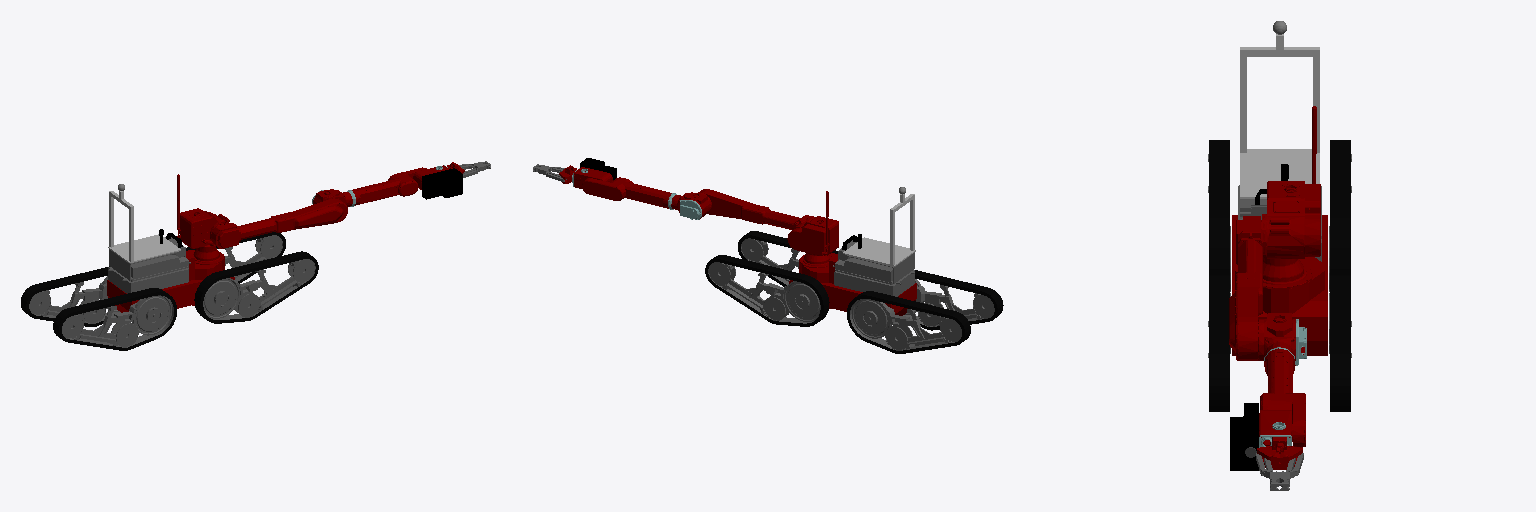
--- Facts derived from the render (not from the file) ---
The picture shows the robot from 3 angles, left to right: view 1: azimuth 30°, elevation 25°; view 2: azimuth 150°, elevation 25°; view 3: azimuth 270°, elevation 25°; orthographic projection.
Model drz_telemax with 41 links and 40 joints (14 revolute, 2 continuous, 24 fixed), rooted at base_link, posed all joints at 0.
Visible links, largest first — view 1: flipper_front_right_link, flipper_back_right_link, arm_link_1, flipper_back_left_link, chassis_link, arm_link_0, navigation_module_link, autonomy_box_link, arm_link_3, flipper_front_left_link, arm_sensor_box_link; view 2: flipper_front_left_link, flipper_back_left_link, flipper_back_right_link, chassis_link, arm_link_0, navigation_module_link, arm_link_1, autonomy_box_link, arm_link_3, flipper_front_right_link, arm_link_2; view 3: arm_link_0, navigation_module_link, arm_link_1, chassis_link, flipper_front_left_link, flipper_back_left_link, flipper_back_right_link, flipper_front_right_link, arm_link_3, arm_link_2, arm_sensor_box_link, arm_link_4 (+2 smaller).
Boxes of the visible links, x1,y1,x2,y2 form: flipper_front_right_link: (194,251,318,323); flipper_back_right_link: (53,288,176,350); arm_link_1: (210,196,347,248); flipper_back_left_link: (21,266,120,326); chassis_link: (107,250,234,312); arm_link_0: (177,174,229,262); navigation_module_link: (108,191,180,262); autonomy_box_link: (108,229,190,281); arm_link_3: (347,167,426,206); flipper_front_left_link: (186,232,285,283); arm_sensor_box_link: (422,168,462,199); flipper_front_left_link: (705,255,829,326); flipper_back_left_link: (847,291,970,353); flipper_back_right_link: (903,270,1003,330); chassis_link: (789,253,916,315); arm_link_0: (787,191,838,265); navigation_module_link: (843,194,915,266); arm_link_1: (698,189,813,229); autonomy_box_link: (833,234,914,284); arm_link_3: (582,177,676,209); flipper_front_right_link: (738,231,837,286); arm_link_2: (671,192,711,219); arm_link_0: (1262,106,1320,284); navigation_module_link: (1240,34,1319,198); arm_link_1: (1229,216,1266,360); chassis_link: (1232,215,1327,355); flipper_front_left_link: (1329,275,1351,411); flipper_back_left_link: (1329,140,1351,291); flipper_back_right_link: (1208,140,1230,291); flipper_front_right_link: (1208,275,1230,411); arm_link_3: (1260,347,1305,447); arm_link_2: (1258,313,1306,365); arm_sensor_box_link: (1230,403,1258,470); arm_link_4: (1259,410,1291,447).
Bounding box of the posed robot: 2.72 × 0.4025 × 0.8654 m (x, y, z).
Meshes: 19 distinct files referenced, 19 mesh visuals loaded (1 binary STL, 13 Collada DAE); not drawn: 6 (reference not matched to a file when rendering).

The robot description file, URDF, robot "drz_telemax":
<?xml version="1.0" encoding="utf-8"?>
<!-- =================================================================================== -->
<!-- |    This document was autogenerated by xacro from /opt/hector/share/drz_telemax_description/urdf/drz_telemax_complete.urdf.xacro | -->
<!-- |    EDITING THIS FILE BY HAND IS NOT RECOMMENDED                                 | -->
<!-- =================================================================================== -->
<robot name="drz_telemax">
  <!--TODO wenn Kamera auf Handgelenk gesteckt wird, aendern sich die Werte-->
  <material name="Black">
    <color rgba="0.0 0.0 0.0 1.0"/>
  </material>
  <material name="LightBlack">
    <color rgba="0.25 0.25 0.25 1.0"/>
  </material>
  <material name="Blue">
    <color rgba="0.0 0.0 0.8 1.0"/>
  </material>
  <material name="Green">
    <color rgba="0.0 0.8 0.0 1.0"/>
  </material>
  <material name="Gray">
    <color rgba="0.7 0.7 0.7 1.0"/>
  </material>
  <material name="LightGray">
    <color rgba="0.9 0.9 0.9 1.0"/>
  </material>
  <material name="LightGray2">
    <color rgba="0.6 0.6 0.6 1.0"/>
  </material>
  <material name="DarkGray">
    <color rgba="0.5 0.5 0.5 1.0"/>
  </material>
  <material name="DarkGray2">
    <color rgba="0.3 0.3 0.3 1.0"/>
  </material>
  <material name="Red">
    <color rgba="0.8 0.0 0.0 1.0"/>
  </material>
  <material name="White">
    <color rgba="1.0 1.0 1.0 1.0"/>
  </material>
  <material name="Orange">
    <color rgba="1.0 0.5 0.0 1.0"/>
  </material>
  <material name="Front">
    <color rgba="1.0 0.25 0.0 1.0"/>
  </material>
  <material name="Rear">
    <color rgba="0.0 0.5 1.0 1.0"/>
  </material>
  <!-- Measured from CAD file -->
  <!-- Measured from CAD file -->
  <link name="base_link"/>
  <joint name="chassis_joint" type="fixed">
    <origin rpy="0 0 0" xyz="0 0 0"/>
    <parent link="base_link"/>
    <child link="chassis_link"/>
  </joint>
  <!-- robot chassis link -->
  <link name="chassis_link">
    <inertial>
      <origin rpy="0 0 0" xyz="0 0 0.05"/>
      <mass value="40"/>
      <inertia ixx="0.376333333333" ixy="0.0" ixz="0.0" iyy="1.54166666667" iyz="0.0" izz="1.65133333333"/>
    </inertial>
    <visual>
      <origin rpy="0 0 0" xyz="0 0 0"/>
      <geometry>
        <mesh filename="package://drz_telemax_description/meshes/maxpro_chassis.dae" scale="0.001 0.001 0.001"/>
      </geometry>
    </visual>
    <visual>
      <origin rpy="0 0 0" xyz="-0.125 0.0 0.225"/>
      <geometry>
        <mesh filename="package://drz_telemax_description/meshes/battery.dae" scale="0.001 0.001 0.001"/>
      </geometry>
    </visual>
    <collision>
      <origin rpy="0 0 0" xyz="0 0 0.105"/>
      <geometry>
        <box size="0.65 0.27 0.2"/>
      </geometry>
    </collision>
  </link>
  <joint name="flipper_front_left_joint" type="revolute">
    <origin rpy="0 0 0" xyz="0.205 0.17 0.085"/>
    <!--       <origin xyz="${0.205*front} 0 0.085"/> -->
    <axis xyz="0 1 0"/>
    <anchor xyz="0 0 0"/>
    <!--      <limit upper="${80.0/180.0*M_PI}" lower="${-M_PI/2}" velocity="0.262745098" effort="1000"/>-->
    <limit effort="1000" lower="-1.57079632679" upper="1.57079632679" velocity="0.209439510239"/>
    <parent link="chassis_link"/>
    <child link="flipper_front_left_link"/>
  </joint>
  <link name="flipper_front_left_link">
    <inertial>
      <origin rpy="0 0 0" xyz="0.2485 0 0"/>
      <mass value="5"/>
      <inertia ixx="0.0138266666667" ixy="0.0" ixz="0.0" iyy="0.115247083333" iyz="0.0" izz="0.104420416667"/>
    </inertial>
    <visual>
      <origin rpy="1.57079632679 3.14159265359 3.14159265359" xyz="0 -0.17 0"/>
      <geometry>
        <mesh filename="package://drz_telemax_description/meshes/flipper.dae" scale="0.001 0.001 0.001"/>
      </geometry>
    </visual>
    <!-- *** Collision geometry ***-->
    <!-- Main wheel -->
    <collision>
      <origin rpy="1.57079632679 0 0" xyz="0 0 0"/>
      <geometry>
        <cylinder length="0.06" radius="0.136"/>
      </geometry>
    </collision>
    <!-- Tip wheel -->
    <collision>
      <origin rpy="1.57079632679 0 0" xyz="0.497 0 0.051"/>
      <geometry>
        <cylinder length="0.06" radius="0.086"/>
      </geometry>
    </collision>
    <!-- Small wheel -->
    <collision>
      <origin rpy="1.57079632679 0 0" xyz="0.165 0 -0.0763"/>
      <geometry>
        <cylinder length="0.06" radius="0.0862"/>
      </geometry>
    </collision>
    <!-- Track between main wheel and small wheel -->
    <collision>
      <origin rpy="0 0.15 0" xyz="0.0674 0 -0.139"/>
      <geometry>
        <box size="0.174 0.06 0.0187"/>
      </geometry>
    </collision>
    <!-- Track between small wheel and tip wheel -->
    <collision>
      <origin rpy="0 -0.364 0" xyz="0.358 0 -0.085"/>
      <geometry>
        <box size="0.355 0.06 0.0187"/>
      </geometry>
    </collision>
    <!-- Track on top of the flipper -->
    <collision>
      <origin rpy="0 0 0" xyz="0.25 0 0.12665"/>
      <geometry>
        <box size="0.5 0.06 0.0187"/>
      </geometry>
    </collision>
  </link>
  <!--Needed for gazebo-->
  <transmission name="flipper_front_left_joint_transmission">
    <type>transmission_interface/SimpleTransmission</type>
    <joint name="flipper_front_left_joint">
      <hardwareInterface>hardware_interface/VelocityJointInterface</hardwareInterface>
    </joint>
    <actuator name="flipper_front_left_joint_motor">
      <hardwareInterface>hardware_interface/VelocityJointInterface</hardwareInterface>
      <mechanicalReduction>1</mechanicalReduction>
    </actuator>
  </transmission>
  <joint name="flipper_front_right_joint" type="revolute">
    <origin rpy="0 0 0" xyz="0.205 -0.17 0.085"/>
    <!--       <origin xyz="${0.205*front} 0 0.085"/> -->
    <axis xyz="0 1 0"/>
    <anchor xyz="0 0 0"/>
    <!--      <limit upper="${80.0/180.0*M_PI}" lower="${-M_PI/2}" velocity="0.262745098" effort="1000"/>-->
    <limit effort="1000" lower="-1.57079632679" upper="1.57079632679" velocity="0.209439510239"/>
    <parent link="chassis_link"/>
    <child link="flipper_front_right_link"/>
  </joint>
  <link name="flipper_front_right_link">
    <inertial>
      <origin rpy="0 0 0" xyz="0.2485 0 0"/>
      <mass value="5"/>
      <inertia ixx="0.0138266666667" ixy="0.0" ixz="0.0" iyy="0.115247083333" iyz="0.0" izz="0.104420416667"/>
    </inertial>
    <visual>
      <origin rpy="1.57079632679 3.14159265359 3.14159265359" xyz="0 0.17 0"/>
      <geometry>
        <mesh filename="package://drz_telemax_description/meshes/flipper.dae" scale="0.001 0.001 -0.001"/>
      </geometry>
    </visual>
    <!-- *** Collision geometry ***-->
    <!-- Main wheel -->
    <collision>
      <origin rpy="1.57079632679 0 0" xyz="0 0 0"/>
      <geometry>
        <cylinder length="0.06" radius="0.136"/>
      </geometry>
    </collision>
    <!-- Tip wheel -->
    <collision>
      <origin rpy="1.57079632679 0 0" xyz="0.497 0 0.051"/>
      <geometry>
        <cylinder length="0.06" radius="0.086"/>
      </geometry>
    </collision>
    <!-- Small wheel -->
    <collision>
      <origin rpy="1.57079632679 0 0" xyz="0.165 0 -0.0763"/>
      <geometry>
        <cylinder length="0.06" radius="0.0862"/>
      </geometry>
    </collision>
    <!-- Track between main wheel and small wheel -->
    <collision>
      <origin rpy="0 0.15 0" xyz="0.0674 0 -0.139"/>
      <geometry>
        <box size="0.174 0.06 0.0187"/>
      </geometry>
    </collision>
    <!-- Track between small wheel and tip wheel -->
    <collision>
      <origin rpy="0 -0.364 0" xyz="0.358 0 -0.085"/>
      <geometry>
        <box size="0.355 0.06 0.0187"/>
      </geometry>
    </collision>
    <!-- Track on top of the flipper -->
    <collision>
      <origin rpy="0 0 0" xyz="0.25 0 0.12665"/>
      <geometry>
        <box size="0.5 0.06 0.0187"/>
      </geometry>
    </collision>
  </link>
  <!--Needed for gazebo-->
  <transmission name="flipper_front_right_joint_transmission">
    <type>transmission_interface/SimpleTransmission</type>
    <joint name="flipper_front_right_joint">
      <hardwareInterface>hardware_interface/VelocityJointInterface</hardwareInterface>
    </joint>
    <actuator name="flipper_front_right_joint_motor">
      <hardwareInterface>hardware_interface/VelocityJointInterface</hardwareInterface>
      <mechanicalReduction>1</mechanicalReduction>
    </actuator>
  </transmission>
  <joint name="flipper_back_left_joint" type="revolute">
    <origin rpy="0 0 3.14159265359" xyz="-0.205 0.17 0.085"/>
    <!--       <origin xyz="${0.205*front} 0 0.085"/> -->
    <axis xyz="0 -1 0"/>
    <anchor xyz="0 0 0"/>
    <!--      <limit upper="${80.0/180.0*M_PI}" lower="${-M_PI/2}" velocity="0.262745098" effort="1000"/>-->
    <limit effort="1000" lower="-1.57079632679" upper="1.57079632679" velocity="0.209439510239"/>
    <parent link="chassis_link"/>
    <child link="flipper_back_left_link"/>
  </joint>
  <link name="flipper_back_left_link">
    <inertial>
      <origin rpy="0 0 0" xyz="0.2485 0 0"/>
      <mass value="5"/>
      <inertia ixx="0.0138266666667" ixy="0.0" ixz="0.0" iyy="0.115247083333" iyz="0.0" izz="0.104420416667"/>
    </inertial>
    <visual>
      <origin rpy="1.57079632679 3.14159265359 3.14159265359" xyz="0 0.17 0"/>
      <geometry>
        <mesh filename="package://drz_telemax_description/meshes/flipper.dae" scale="0.001 0.001 -0.001"/>
      </geometry>
    </visual>
    <!-- *** Collision geometry ***-->
    <!-- Main wheel -->
    <collision>
      <origin rpy="1.57079632679 0 0" xyz="0 0 0"/>
      <geometry>
        <cylinder length="0.06" radius="0.136"/>
      </geometry>
    </collision>
    <!-- Tip wheel -->
    <collision>
      <origin rpy="1.57079632679 0 0" xyz="0.497 0 0.051"/>
      <geometry>
        <cylinder length="0.06" radius="0.086"/>
      </geometry>
    </collision>
    <!-- Small wheel -->
    <collision>
      <origin rpy="1.57079632679 0 0" xyz="0.165 0 -0.0763"/>
      <geometry>
        <cylinder length="0.06" radius="0.0862"/>
      </geometry>
    </collision>
    <!-- Track between main wheel and small wheel -->
    <collision>
      <origin rpy="0 0.15 0" xyz="0.0674 0 -0.139"/>
      <geometry>
        <box size="0.174 0.06 0.0187"/>
      </geometry>
    </collision>
    <!-- Track between small wheel and tip wheel -->
    <collision>
      <origin rpy="0 -0.364 0" xyz="0.358 0 -0.085"/>
      <geometry>
        <box size="0.355 0.06 0.0187"/>
      </geometry>
    </collision>
    <!-- Track on top of the flipper -->
    <collision>
      <origin rpy="0 0 0" xyz="0.25 0 0.12665"/>
      <geometry>
        <box size="0.5 0.06 0.0187"/>
      </geometry>
    </collision>
  </link>
  <!--Needed for gazebo-->
  <transmission name="flipper_back_left_joint_transmission">
    <type>transmission_interface/SimpleTransmission</type>
    <joint name="flipper_back_left_joint">
      <hardwareInterface>hardware_interface/VelocityJointInterface</hardwareInterface>
    </joint>
    <actuator name="flipper_back_left_joint_motor">
      <hardwareInterface>hardware_interface/VelocityJointInterface</hardwareInterface>
      <mechanicalReduction>1</mechanicalReduction>
    </actuator>
  </transmission>
  <joint name="flipper_back_right_joint" type="revolute">
    <origin rpy="0 0 3.14159265359" xyz="-0.205 -0.17 0.085"/>
    <!--       <origin xyz="${0.205*front} 0 0.085"/> -->
    <axis xyz="0 -1 0"/>
    <anchor xyz="0 0 0"/>
    <!--      <limit upper="${80.0/180.0*M_PI}" lower="${-M_PI/2}" velocity="0.262745098" effort="1000"/>-->
    <limit effort="1000" lower="-1.57079632679" upper="1.57079632679" velocity="0.209439510239"/>
    <parent link="chassis_link"/>
    <child link="flipper_back_right_link"/>
  </joint>
  <link name="flipper_back_right_link">
    <inertial>
      <origin rpy="0 0 0" xyz="0.2485 0 0"/>
      <mass value="5"/>
      <inertia ixx="0.0138266666667" ixy="0.0" ixz="0.0" iyy="0.115247083333" iyz="0.0" izz="0.104420416667"/>
    </inertial>
    <visual>
      <origin rpy="1.57079632679 3.14159265359 3.14159265359" xyz="0 -0.17 0"/>
      <geometry>
        <mesh filename="package://drz_telemax_description/meshes/flipper.dae" scale="0.001 0.001 0.001"/>
      </geometry>
    </visual>
    <!-- *** Collision geometry ***-->
    <!-- Main wheel -->
    <collision>
      <origin rpy="1.57079632679 0 0" xyz="0 0 0"/>
      <geometry>
        <cylinder length="0.06" radius="0.136"/>
      </geometry>
    </collision>
    <!-- Tip wheel -->
    <collision>
      <origin rpy="1.57079632679 0 0" xyz="0.497 0 0.051"/>
      <geometry>
        <cylinder length="0.06" radius="0.086"/>
      </geometry>
    </collision>
    <!-- Small wheel -->
    <collision>
      <origin rpy="1.57079632679 0 0" xyz="0.165 0 -0.0763"/>
      <geometry>
        <cylinder length="0.06" radius="0.0862"/>
      </geometry>
    </collision>
    <!-- Track between main wheel and small wheel -->
    <collision>
      <origin rpy="0 0.15 0" xyz="0.0674 0 -0.139"/>
      <geometry>
        <box size="0.174 0.06 0.0187"/>
      </geometry>
    </collision>
    <!-- Track between small wheel and tip wheel -->
    <collision>
      <origin rpy="0 -0.364 0" xyz="0.358 0 -0.085"/>
      <geometry>
        <box size="0.355 0.06 0.0187"/>
      </geometry>
    </collision>
    <!-- Track on top of the flipper -->
    <collision>
      <origin rpy="0 0 0" xyz="0.25 0 0.12665"/>
      <geometry>
        <box size="0.5 0.06 0.0187"/>
      </geometry>
    </collision>
  </link>
  <!--Needed for gazebo-->
  <transmission name="flipper_back_right_joint_transmission">
    <type>transmission_interface/SimpleTransmission</type>
    <joint name="flipper_back_right_joint">
      <hardwareInterface>hardware_interface/VelocityJointInterface</hardwareInterface>
    </joint>
    <actuator name="flipper_back_right_joint_motor">
      <hardwareInterface>hardware_interface/VelocityJointInterface</hardwareInterface>
      <mechanicalReduction>1</mechanicalReduction>
    </actuator>
  </transmission>
  <!-- Base link gazebo properties TODO should this be chassis link?-->
  <!--  <gazebo reference="base_link">
    <mu1>0.0</mu1>
    <mu2>0.0</mu2>
    <kp>1000000.0</kp>
    <kd>100.0</kd>
    <minDepth>0.001</minDepth>
    <maxVel>1.0</maxVel>
    </gazebo>-->
  <gazebo>
    <!-- Publish ground truth -->
    <plugin filename="libgazebo_ros_p3d.so" name="p3d_base_controller">
      <alwaysOn>true</alwaysOn>
      <updateRate>50.0</updateRate>
      <bodyName>base_link</bodyName>
      <topicName>ground_truth/state</topicName>
      <gaussianNoise>0.01</gaussianNoise>
      <frameName>world</frameName>
      <xyzOffsets>0 0 0</xyzOffsets>
      <rpyOffsets>0 0 0</rpyOffsets>
    </plugin>
    <!-- IMU plugin -->
    <plugin filename="libhector_gazebo_ros_imu.so" name="imu_controller">
      <alwaysOn>true</alwaysOn>
      <updateRate>50.0</updateRate>
      <bodyName>base_link</bodyName>
      <topicName>imu/data</topicName>
      <accelDrift>0.0 0.0 0.0</accelDrift>
      <accelGaussianNoise>0.1 0.1 0.1</accelGaussianNoise>
      <rateDrift>0.0 0.0 0.0</rateDrift>
      <rateGaussianNoise>0.05 0.05 0.05</rateGaussianNoise>
      <headingDrift>0.0</headingDrift>
      <headingGaussianNoise>0.05</headingGaussianNoise>
    </plugin>
  </gazebo>
  <gazebo reference="main_track_left_fixed_joint">
    <preserveFixedJoint>true</preserveFixedJoint>
  </gazebo>
  <gazebo reference="main_track_right_fixed_joint">
    <preserveFixedJoint>true</preserveFixedJoint>
  </gazebo>
  <gazebo reference="flipper_front_left_link">
    <!--      <mu1>0.0</mu1>
      <mu2>0.0</mu2>
      <kp>1000000.0</kp>
      <kd>100.0</kd>
      <minDepth>0.001</minDepth>
      <maxVel>1.0</maxVel>-->
  </gazebo>
  <gazebo reference="flipper_back_left_link">
    <!--      <mu1>0.0</mu1>
      <mu2>0.0</mu2>
      <kp>1000000.0</kp>
      <kd>100.0</kd>
      <minDepth>0.001</minDepth>
      <maxVel>1.0</maxVel>-->
  </gazebo>
  <gazebo reference="flipper_front_right_link">
    <!--      <mu1>0.0</mu1>
      <mu2>0.0</mu2>
      <kp>1000000.0</kp>
      <kd>100.0</kd>
      <minDepth>0.001</minDepth>
      <maxVel>1.0</maxVel>-->
  </gazebo>
  <gazebo reference="flipper_back_right_link">
    <!--      <mu1>0.0</mu1>
      <mu2>0.0</mu2>
      <kp>1000000.0</kp>
      <kd>100.0</kd>
      <minDepth>0.001</minDepth>
      <maxVel>1.0</maxVel>-->
  </gazebo>
  <gazebo>
    <plugin filename="libgazebo_ros_tracked_vehicle_plugin.so" name="multi_tracked_vehicle">
      <command_topic>/cmd_vel_raw</command_topic>
      <body>base_link</body>
      <left_track0>flipper_front_left_link</left_track0>
      <left_track1>flipper_back_left_link</left_track1>
      <right_track0>flipper_front_right_link</right_track0>
      <right_track1>flipper_back_right_link</right_track1>
      <track_mu>0.7</track_mu>
      <track_mu2>150</track_mu2>
      <tracks_separation>0.34</tracks_separation>
      <steering_efficiency>0.5</steering_efficiency>
      <max_linear_speed>1.0</max_linear_speed>
      <max_angular_speed>1.0</max_angular_speed>
    </plugin>
    <plugin filename="libkeys_to_cmd_vel_plugin.so" name="keyboard_control">
      <cmd_vel_topic>~/robot_description_gazebo/cmd_vel</cmd_vel_topic>
    </plugin>
  </gazebo>
  <gazebo>
    <!-- Gazebo ros control -->
    <plugin filename="libgazebo_ros_control_select_joints.so" name="gazebo_ros_control_select_joints">
      <robotNamespace>telemax_control</robotNamespace>
      <joints>arm_joint_0 arm_joint_1 arm_joint_2 arm_joint_3 arm_joint_4 arm_joint_5 gripper_joint flipper_front_left_joint flipper_front_right_joint flipper_back_left_joint flipper_back_right_joint</joints>
    </plugin>
  </gazebo>
  <joint name="manipulator_base_joint" type="fixed">
    <origin rpy="0 0 0" xyz="0.225 0.0 0.24125"/>
    <parent link="base_link"/>
    <child link="manipulator_base_link"/>
  </joint>
  <link name="manipulator_base_link">
    <inertial>
      <origin rpy="0 0 0" xyz="0 0 0.0"/>
      <mass value="1"/>
      <inertia ixx="6.66666666667e-05" ixy="0.0" ixz="0.0" iyy="6.66666666667e-05" iyz="0.0" izz="6.66666666667e-05"/>
    </inertial>
    <visual>
      <geometry>
        <mesh filename="package://drz_telemax_description/meshes/manipulator_base_link.dae" scale="0.001 0.001 0.001"/>
      </geometry>
    </visual>
    <collision>
      <origin rpy="0 0 0" xyz="0.0 0.0 0.0"/>
      <geometry>
        <cylinder length="0.02" radius="0.1"/>
      </geometry>
    </collision>
  </link>
  <joint name="arm_joint_0" type="revolute">
    <parent link="manipulator_base_link"/>
    <child link="arm_link_0"/>
    <origin rpy="0 0 0" xyz="0 0 0"/>
    <axis xyz="0 0 1"/>
    <limit effort="10000.0" lower="-3.66519142919" upper="3.66519142919" velocity="0.628318530718"/>
  </joint>
  <link name="arm_link_0">
    <inertial>
      <origin rpy="0 0 0" xyz="0.004 0.02135 0.126"/>
      <mass value="3"/>
      <inertia ixx="0.0181" ixy="0.0" ixz="0.0" iyy="0.023725" iyz="0.0" izz="0.025625"/>
    </inertial>
    <visual>
      <geometry>
        <mesh filename="package://drz_telemax_description/meshes/arm_link_0.dae" scale="0.001 0.001 0.001"/>
      </geometry>
    </visual>
    <!-- Tower body -->
    <collision>
      <origin rpy="0 0 0" xyz="0.01 0.025 0.165"/>
      <geometry>
        <box size="0.25 0.2 0.18"/>
      </geometry>
    </collision>
    <!-- Tower cylinder -->
    <collision>
      <origin rpy="0 0 0" xyz="0.0 0.0 0.03"/>
      <geometry>
        <cylinder length="0.09" radius="0.075"/>
      </geometry>
    </collision>
    <!-- Ring at tower base -->
    <collision>
      <origin rpy="0 0 0" xyz="0.0 0.0 0.0"/>
      <geometry>
        <cylinder length="0.02" radius="0.1"/>
      </geometry>
    </collision>
    <!-- Antenna 1 -->
    <collision>
      <origin rpy="0 0 0" xyz="-0.115 0.09625 0.365"/>
      <geometry>
        <cylinder length="0.22" radius="0.01"/>
      </geometry>
    </collision>
    <!-- Antenna 2 -->
    <collision>
      <origin rpy="0 0 0" xyz="0.015 0.125 0.365"/>
      <geometry>
        <cylinder length="0.22" radius="0.01"/>
      </geometry>
    </collision>
  </link>
  <joint name="arm_joint_1" type="revolute">
    <parent link="arm_link_0"/>
    <child link="arm_link_1"/>
    <origin rpy="0 0 0" xyz="0.06 -0.0815 0.14"/>
    <axis xyz="0 1 0"/>
    <limit effort="10000.0" lower="-2.72271363311" upper="1.0471975512" velocity="0.314159265359"/>
  </joint>
  <link name="arm_link_1">
    <!--      <inertial>
        <origin xyz="${-0.066 + (0.066+0.089)/2} 0 0" rpy="0 0 0"/>
        <mass value="1.0" />
        <inertia ixx="1.0" ixy="0.0" ixz="0.0" iyy="1.0" iyz="0.0" izz="1.0" />
      </inertial>-->
    <inertial>
      <origin rpy="0 0 0" xyz="0.33 0 0"/>
      <mass value="5"/>
      <inertia ixx="0.00533333333333" ixy="0.0" ixz="0.0" iyy="0.269333333333" iyz="0.0" izz="0.269333333333"/>
    </inertial>
    <visual>
      <geometry>
        <mesh filename="package://drz_telemax_description/meshes/arm_link_1.dae" scale="0.001 0.001 0.001"/>
      </geometry>
    </visual>
    <collision>
      <origin rpy="0 0 0" xyz="0.01 -0.005 0"/>
      <geometry>
        <box size="0.16 0.08 0.110"/>
      </geometry>
    </collision>
    <collision>
      <origin rpy="0 0 0" xyz="0.26 -0.005 0"/>
      <geometry>
        <box size="0.36 0.08 0.08"/>
      </geometry>
    </collision>
    <collision>
      <origin rpy="0 0 0" xyz="0.56 -0.02 0"/>
      <geometry>
        <box size="0.35 0.085 0.13"/>
      </geometry>
    </collision>
  </link>
  <joint name="arm_joint_2" type="revolute">
    <parent link="arm_link_1"/>
    <child link="arm_link_2"/>
    <origin rpy="0 0 0" xyz="0.67 0.081 0.0"/>
    <axis xyz="0 1 0"/>
    <limit effort="10000.0" lower="-2.96705972839" upper="2.96705972839" velocity="0.628318530718"/>
  </joint>
  <link name="arm_link_2">
    <!--      <inertial>
        <origin xyz="${-0.04 + (0.04+0.04+0.1246)/2} ${0.0634 - (0.0634+0.12-0.08)/2} ${-0.04 + (0.04+0.05)/2}" rpy="0 0 0"/>
        <mass value="1.0" />
        <inertia ixx="1.0" ixy="0.0" ixz="0.0" iyy="1.0" iyz="0.0" izz="1.0" />
      </inertial>-->
    <inertial>
      <origin rpy="0 0 0" xyz="0.01 0.01 0.01"/>
      <mass value="1"/>
      <inertia ixx="0.00350833333333" ixy="0.0" ixz="0.0" iyy="0.00375" iyz="0.0" izz="0.00350833333333"/>
    </inertial>
    <visual>
      <geometry>
        <mesh filename="package://drz_telemax_description/meshes/arm_link_2.dae" scale="0.001 0.001 0.001"/>
      </geometry>
    </visual>
    <collision>
      <origin rpy="0 0 0" xyz="0.01 0.01 0.01"/>
      <geometry>
        <box size="0.15 0.14 0.15"/>
      </geometry>
    </collision>
    <collision>
      <origin rpy="0 0 0" xyz="0.11 0.0 0.0"/>
      <geometry>
        <box size="0.05 0.09 0.09"/>
      </geometry>
    </collision>
  </link>
  <joint name="arm_joint_3" type="revolute">
    <parent link="arm_link_2"/>
    <child link="arm_link_3"/>
    <origin rpy="0 0 0" xyz="0.0 0.0 0.0"/>
    <axis xyz="1 0 0"/>
    <limit effort="10000.0" lower="-3.66519142919" upper="3.66519142919" velocity="1.25663706144"/>
  </joint>
  <link name="arm_link_3">
    <!--      <inertial>
        <origin xyz="${0.494/2} ${0.0523 - 0.1195/2} 0" rpy="0 0 0"/>
        <mass value="1.0" />
        <inertia ixx="1.0" ixy="0.0" ixz="0.0" iyy="1.0" iyz="0.0" izz="1.0" />
      </inertial>-->
    <inertial>
      <origin rpy="0 0 0" xyz="0.3 0.0 0.0"/>
      <mass value="3"/>
      <inertia ixx="0.00405" ixy="0.0" ixz="0.0" iyy="0.05265" iyz="0.0" izz="0.05265"/>
    </inertial>
    <visual>
      <geometry>
        <mesh filename="package://drz_telemax_description/meshes/arm_link_3.dae" scale="0.001 0.001 0.001"/>
      </geometry>
    </visual>
    <collision>
      <origin rpy="0 0 0" xyz="0.3 0.0 0.0"/>
      <geometry>
        <box size="0.35 0.09 0.09"/>
      </geometry>
    </collision>
    <collision>
      <origin rpy="0 0 0" xyz="0.53 0.055 0"/>
      <geometry>
        <box size="0.25 0.045 0.09"/>
      </geometry>
    </collision>
    <collision>
      <origin rpy="0 0 0" xyz="0.46 0.01 0"/>
      <geometry>
        <box size="0.13 0.13 0.09"/>
      </geometry>
    </collision>
  </link>
  <joint name="arm_joint_4" type="revolute">
    <parent link="arm_link_3"/>
    <child link="arm_link_4"/>
    <origin rpy="0 0 0" xyz="0.615 0.0 0.0"/>
    <axis xyz="0 1 0"/>
    <limit effort="10000.0" lower="-2.26892802759" upper="2.26892802759" velocity="1.36135681656"/>
  </joint>
  <link name="arm_link_4">
    <!--      <inertial>
        <origin xyz="${-0.059 + 0.168/2} ${-0.046 + 0.076/2.0} ${-0.0367 + (0.0513+0.0367)/2}" rpy="0 0 0"/>
        <mass value="1.0" />
        <inertia ixx="1.0" ixy="0.0" ixz="0.0" iyy="1.0" iyz="0.0" izz="1.0" />
      </inertial>-->
    <inertial>
      <origin rpy="0 0 0" xyz="0.025 -0.01 0.005"/>
      <mass value="1"/>
      <inertia ixx="0.00150833333333" ixy="0.0" ixz="0.0" iyy="0.00435" iyz="0.0" izz="0.00450833333333"/>
    </inertial>
    <visual>
      <geometry>
        <mesh filename="package://drz_telemax_description/meshes/arm_link_4.dae" scale="0.001 0.001 0.001"/>
      </geometry>
    </visual>
    <collision>
      <origin rpy="0 0 0" xyz="0.025 -0.01 0.005"/>
      <geometry>
        <box size="0.21 0.1 0.09"/>
      </geometry>
    </collision>
    <collision>
      <origin rpy="0 0 0" xyz="0.0625 -0.00125 0.055"/>
      <geometry>
        <cylinder length="0.02" radius="0.03"/>
      </geometry>
    </collision>
  </link>
  <joint name="arm_joint_5" type="continuous">
    <parent link="arm_link_4"/>
    <child link="arm_link_5"/>
    <origin rpy="0 0 0" xyz="0.12887 0.0 0.00065"/>
    <axis xyz="1 0 0"/>
    <limit effort="10000.0" velocity="1.29154364648"/>
  </joint>
  <link name="arm_link_5">
    <!--      <inertial>
        <origin xyz="${0.063/2} 0 ${-0.0525 + (0.0184+0.0525)/2}" rpy="0 0 0"/>
        <mass value="1.0" />
        <inertia ixx="1.0" ixy="0.0" ixz="0.0" iyy="1.0" iyz="0.0" izz="1.0" />
      </inertial>-->
    <inertial>
      <origin rpy="0 0 0" xyz="0.036 0.0 0.0"/>
      <mass value="0.5"/>
      <inertia ixx="0.000901041666667" ixy="0.0" ixz="0.0" iyy="0.00031875" iyz="0.0" izz="0.00105104166667"/>
    </inertial>
    <visual>
      <geometry>
        <mesh filename="package://drz_telemax_description/meshes/arm_link_5.dae" scale="0.001 0.001 0.001"/>
      </geometry>
    </visual>
    <collision>
      <origin rpy="0 0 0" xyz="0.036 0.0 0.0"/>
      <geometry>
        <box size="0.075 0.14 0.045"/>
      </geometry>
    </collision>
    <collision>
      <origin rpy="0 0 0" xyz="0.03 0.0 0.035"/>
      <geometry>
        <box size="0.045 0.045 0.045"/>
      </geometry>
    </collision>
  </link>
  <!-- Gripper -->
  <joint name="gripper_joint" type="revolute">
    <origin rpy="0 0 0" xyz="0 0 0"/>
    <axis xyz="0 0 1"/>
    <limit effort="1000" lower="0" upper="0.2" velocity="0.02"/>
    <parent link="arm_link_5"/>
    <child link="gripper_servo_link"/>
  </joint>
  <link name="gripper_servo_link">
    <inertial>
      <origin rpy="0 0 0" xyz="0 0 0"/>
      <mass value="0.01"/>
      <inertia ixx="4.16666666667e-06" ixy="0.0" ixz="0.0" iyy="4.16666666667e-06" iyz="0.0" izz="4.16666666667e-06"/>
    </inertial>
    <!--      <visual>
        <origin xyz="0 0.0 0.0" rpy="0.0 0.0 0.0" />
        <geometry>
          <cylinder length="0.01" radius="0.01" />
        </geometry>
      </visual>

      <collision>
        <origin xyz="0 0.0 0.0" rpy="0.0 0.0 0.0" />
        <geometry>
          <cylinder length="0.01" radius="0.01" />
        </geometry>
      </collision>-->
  </link>
  <joint name="left_finger_middle_joint" type="revolute">
    <origin rpy="0 0 0" xyz="0.035 0.039 0"/>
    <parent link="arm_link_5"/>
    <child link="left_finger_middle_link"/>
    <axis xyz="0 0 1"/>
    <mimic joint="gripper_joint" multiplier="5.1" offset="-0.12"/>
    <limit effort="1000" lower="-0.12" upper="1.02" velocity="1"/>
  </joint>
  <link name="left_finger_middle_link">
    <!--      <inertial>
        <origin xyz="${-0.04 + (0.04+0.04+0.1246)/2} ${0.0634 - (0.0634+0.12-0.08)/2} ${-0.04 + (0.04+0.05)/2}" rpy="0 0 0"/>
        <mass value="1.0" />
        <inertia ixx="1.0" ixy="0.0" ixz="0.0" iyy="1.0" iyz="0.0" izz="1.0" />
      </inertial>-->
    <inertial>
      <origin rpy="0 0 0" xyz="0.05 0.01 0.0"/>
      <mass value="0.5"/>
      <inertia ixx="9.27083333333e-05" ixy="0.0" ixz="0.0" iyy="0.000842708333333" iyz="0.0" izz="0.000883333333333"/>
    </inertial>
    <visual>
      <geometry>
        <mesh filename="package://drz_telemax_description/meshes/finger_middle_link.dae" scale="0.001 0.001 0.001"/>
      </geometry>
    </visual>
    <collision>
      <origin rpy="0 0 0" xyz="0.05 0.01 0.0"/>
      <geometry>
        <box size="0.14 0.04 0.025"/>
      </geometry>
    </collision>
  </link>
  <joint name="left_finger_end_joint" type="revolute">
    <parent link="left_finger_middle_link"/>
    <child link="left_finger_end_link"/>
    <origin rpy="0 0 0" xyz="0.110 0.0 0.0"/>
    <axis xyz="0 0 1"/>
    <mimic joint="gripper_joint" multiplier="-5.1" offset="0.12"/>
    <limit effort="1000" lower="-1.02" upper="0.12" velocity="1"/>
  </joint>
  <link name="left_finger_end_link">
    <!--      <inertial>
        <origin xyz="${-0.04 + (0.04+0.04+0.1246)/2} ${0.0634 - (0.0634+0.12-0.08)/2} ${-0.04 + (0.04+0.05)/2}" rpy="0 0 0"/>
        <mass value="1.0" />
        <inertia ixx="1.0" ixy="0.0" ixz="0.0" iyy="1.0" iyz="0.0" izz="1.0" />
      </inertial>-->
    <inertial>
      <origin rpy="0 0 0" xyz="0.05 -0.01225 0.0"/>
      <mass value="0.5"/>
      <inertia ixx="6.90104166667e-05" ixy="0.0" ixz="0.0" iyy="0.000298177083333" iyz="0.0" izz="0.000304166666667"/>
    </inertial>
    <visual>
      <geometry>
        <mesh filename="package://drz_telemax_description/meshes/finger_end_link.dae" scale="0.001 0.001 0.001"/>
      </geometry>
    </visual>
    <collision>
      <origin rpy="0 0 0" xyz="0.05 -0.01225 0.0"/>
      <geometry>
        <box size="0.08 0.03 0.0275"/>
      </geometry>
    </collision>
    <collision>
      <origin rpy="0 0 -0.785398163397" xyz="0.0 0.0 0.0"/>
      <geometry>
        <box size="0.06 0.03 0.0275"/>
      </geometry>
    </collision>
  </link>
  <gazebo>
    <plugin filename="libroboticsgroup_gazebo_mimic_joint_plugin.so" name="mimic_left_finger_middle_joint">
      <joint>gripper_joint</joint>
      <mimicJoint>left_finger_middle_joint</mimicJoint>
      <multiplier>5.1</multiplier>
      <offset>-0.12</offset>
      <maxEffort>4</maxEffort>
      <hasPID/>
    </plugin>
    <plugin filename="libroboticsgroup_gazebo_mimic_joint_plugin.so" name="mimic_left_finger_end_joint">
      <joint>gripper_joint</joint>
      <mimicJoint>left_finger_end_joint</mimicJoint>
      <multiplier>-5.1</multiplier>
      <offset>0.12</offset>
      <maxEffort>4</maxEffort>
      <hasPID/>
    </plugin>
  </gazebo>
  <joint name="right_finger_middle_joint" type="revolute">
    <origin rpy="3.14159265359 0 0" xyz="0.035 -0.039 0"/>
    <parent link="arm_link_5"/>
    <child link="right_finger_middle_link"/>
    <axis xyz="0 0 1"/>
    <mimic joint="gripper_joint" multiplier="5.1" offset="-0.12"/>
    <limit effort="1000" lower="-0.12" upper="1.02" velocity="1"/>
  </joint>
  <link name="right_finger_middle_link">
    <!--      <inertial>
        <origin xyz="${-0.04 + (0.04+0.04+0.1246)/2} ${0.0634 - (0.0634+0.12-0.08)/2} ${-0.04 + (0.04+0.05)/2}" rpy="0 0 0"/>
        <mass value="1.0" />
        <inertia ixx="1.0" ixy="0.0" ixz="0.0" iyy="1.0" iyz="0.0" izz="1.0" />
      </inertial>-->
    <inertial>
      <origin rpy="0 0 0" xyz="0.05 0.01 0.0"/>
      <mass value="0.5"/>
      <inertia ixx="9.27083333333e-05" ixy="0.0" ixz="0.0" iyy="0.000842708333333" iyz="0.0" izz="0.000883333333333"/>
    </inertial>
    <visual>
      <geometry>
        <mesh filename="package://drz_telemax_description/meshes/finger_middle_link.dae" scale="0.001 0.001 0.001"/>
      </geometry>
    </visual>
    <collision>
      <origin rpy="0 0 0" xyz="0.05 0.01 0.0"/>
      <geometry>
        <box size="0.14 0.04 0.025"/>
      </geometry>
    </collision>
  </link>
  <joint name="right_finger_end_joint" type="revolute">
    <parent link="right_finger_middle_link"/>
    <child link="right_finger_end_link"/>
    <origin rpy="0 0 0" xyz="0.110 0.0 0.0"/>
    <axis xyz="0 0 1"/>
    <mimic joint="gripper_joint" multiplier="-5.1" offset="0.12"/>
    <limit effort="1000" lower="-1.02" upper="0.12" velocity="1"/>
  </joint>
  <link name="right_finger_end_link">
    <!--      <inertial>
        <origin xyz="${-0.04 + (0.04+0.04+0.1246)/2} ${0.0634 - (0.0634+0.12-0.08)/2} ${-0.04 + (0.04+0.05)/2}" rpy="0 0 0"/>
        <mass value="1.0" />
        <inertia ixx="1.0" ixy="0.0" ixz="0.0" iyy="1.0" iyz="0.0" izz="1.0" />
      </inertial>-->
    <inertial>
      <origin rpy="0 0 0" xyz="0.05 -0.01225 0.0"/>
      <mass value="0.5"/>
      <inertia ixx="6.90104166667e-05" ixy="0.0" ixz="0.0" iyy="0.000298177083333" iyz="0.0" izz="0.000304166666667"/>
    </inertial>
    <visual>
      <geometry>
        <mesh filename="package://drz_telemax_description/meshes/finger_end_link.dae" scale="0.001 0.001 0.001"/>
      </geometry>
    </visual>
    <collision>
      <origin rpy="0 0 0" xyz="0.05 -0.01225 0.0"/>
      <geometry>
        <box size="0.08 0.03 0.0275"/>
      </geometry>
    </collision>
    <collision>
      <origin rpy="0 0 -0.785398163397" xyz="0.0 0.0 0.0"/>
      <geometry>
        <box size="0.06 0.03 0.0275"/>
      </geometry>
    </collision>
  </link>
  <gazebo>
    <plugin filename="libroboticsgroup_gazebo_mimic_joint_plugin.so" name="mimic_right_finger_middle_joint">
      <joint>gripper_joint</joint>
      <mimicJoint>right_finger_middle_joint</mimicJoint>
      <multiplier>5.1</multiplier>
      <offset>-0.12</offset>
      <maxEffort>4</maxEffort>
      <hasPID/>
    </plugin>
    <plugin filename="libroboticsgroup_gazebo_mimic_joint_plugin.so" name="mimic_right_finger_end_joint">
      <joint>gripper_joint</joint>
      <mimicJoint>right_finger_end_joint</mimicJoint>
      <multiplier>-5.1</multiplier>
      <offset>0.12</offset>
      <maxEffort>4</maxEffort>
      <hasPID/>
    </plugin>
  </gazebo>
  <!-- Virtual TCP link -->
  <joint name="gripper_tcp_joint" type="fixed">
    <origin rpy="0 0 0" xyz="0.234 0 0"/>
    <axis xyz="0 0 1"/>
    <parent link="arm_link_5"/>
    <child link="gripper_tcp_link"/>
  </joint>
  <link name="gripper_tcp_link">
    </link>
  <transmission name="arm_joint_0_joint_transmission">
    <type>transmission_interface/SimpleTransmission</type>
    <joint name="arm_joint_0">
      <hardwareInterface>hardware_interface/PositionJointInterface</hardwareInterface>
    </joint>
    <actuator name="arm_joint_0_joint_motor">
      <hardwareInterface>hardware_interface/PositionJointInterface</hardwareInterface>
      <mechanicalReduction>1</mechanicalReduction>
    </actuator>
  </transmission>
  <gazebo reference="arm_joint_0">
    <implicitSpringDamper>1</implicitSpringDamper>
  </gazebo>
  <transmission name="arm_joint_1_joint_transmission">
    <type>transmission_interface/SimpleTransmission</type>
    <joint name="arm_joint_1">
      <hardwareInterface>hardware_interface/PositionJointInterface</hardwareInterface>
    </joint>
    <actuator name="arm_joint_1_joint_motor">
      <hardwareInterface>hardware_interface/PositionJointInterface</hardwareInterface>
      <mechanicalReduction>1</mechanicalReduction>
    </actuator>
  </transmission>
  <gazebo reference="arm_joint_1">
    <implicitSpringDamper>1</implicitSpringDamper>
  </gazebo>
  <transmission name="arm_joint_2_joint_transmission">
    <type>transmission_interface/SimpleTransmission</type>
    <joint name="arm_joint_2">
      <hardwareInterface>hardware_interface/PositionJointInterface</hardwareInterface>
    </joint>
    <actuator name="arm_joint_2_joint_motor">
      <hardwareInterface>hardware_interface/PositionJointInterface</hardwareInterface>
      <mechanicalReduction>1</mechanicalReduction>
    </actuator>
  </transmission>
  <gazebo reference="arm_joint_2">
    <implicitSpringDamper>1</implicitSpringDamper>
  </gazebo>
  <transmission name="arm_joint_3_joint_transmission">
    <type>transmission_interface/SimpleTransmission</type>
    <joint name="arm_joint_3">
      <hardwareInterface>hardware_interface/PositionJointInterface</hardwareInterface>
    </joint>
    <actuator name="arm_joint_3_joint_motor">
      <hardwareInterface>hardware_interface/PositionJointInterface</hardwareInterface>
      <mechanicalReduction>1</mechanicalReduction>
    </actuator>
  </transmission>
  <gazebo reference="arm_joint_3">
    <implicitSpringDamper>1</implicitSpringDamper>
  </gazebo>
  <transmission name="arm_joint_4_joint_transmission">
    <type>transmission_interface/SimpleTransmission</type>
    <joint name="arm_joint_4">
      <hardwareInterface>hardware_interface/PositionJointInterface</hardwareInterface>
    </joint>
    <actuator name="arm_joint_4_joint_motor">
      <hardwareInterface>hardware_interface/PositionJointInterface</hardwareInterface>
      <mechanicalReduction>1</mechanicalReduction>
    </actuator>
  </transmission>
  <gazebo reference="arm_joint_4">
    <implicitSpringDamper>1</implicitSpringDamper>
  </gazebo>
  <transmission name="arm_joint_5_joint_transmission">
    <type>transmission_interface/SimpleTransmission</type>
    <joint name="arm_joint_5">
      <hardwareInterface>hardware_interface/PositionJointInterface</hardwareInterface>
    </joint>
    <actuator name="arm_joint_5_joint_motor">
      <hardwareInterface>hardware_interface/PositionJointInterface</hardwareInterface>
      <mechanicalReduction>1</mechanicalReduction>
    </actuator>
  </transmission>
  <gazebo reference="arm_joint_5">
    <implicitSpringDamper>1</implicitSpringDamper>
  </gazebo>
  <transmission name="gripper_joint_joint_transmission">
    <type>transmission_interface/SimpleTransmission</type>
    <joint name="gripper_joint">
      <hardwareInterface>hardware_interface/PositionJointInterface</hardwareInterface>
    </joint>
    <actuator name="gripper_joint_joint_motor">
      <hardwareInterface>hardware_interface/PositionJointInterface</hardwareInterface>
      <mechanicalReduction>1</mechanicalReduction>
    </actuator>
  </transmission>
  <gazebo reference="gripper_joint">
    <implicitSpringDamper>1</implicitSpringDamper>
  </gazebo>
  <joint name="autonomy_box_joint_fixed" type="fixed">
    <origin rpy="0.0 0.0 0.0" xyz="-0.125 0.0 0.318"/>
    <parent link="chassis_link"/>
    <child link="autonomy_box_link"/>
  </joint>
  <link name="autonomy_box_link">
    <origin rpy="0 0 0" xyz="0 0 0"/>
    <visual>
      <origin rpy="-1.57079632679 0 3.14159265359" xyz="0 0 -0.055"/>
      <geometry>
        <mesh filename="package://drz_telemax_description/meshes/autonomy_box.dae" scale="0.001 0.001 0.001"/>
      </geometry>
    </visual>
    <collision>
      <origin rpy="0 0 0" xyz="0 0 0"/>
      <geometry>
        <box size="0.353 0.24 0.11"/>
      </geometry>
    </collision>
  </link>
  <joint name="imu_link_joint" type="fixed">
    <origin rpy="0 0 0" xyz="0.04 0.04 0.08"/>
    <parent link="autonomy_box_link"/>
    <child link="imu_link"/>
  </joint>
  <link name="imu_link">
    </link>
  <joint name="navigation_module_joint_fixed" type="fixed">
    <origin rpy="0 0 0" xyz="-0.0265 0 0.0629"/>
    <parent link="autonomy_box_link"/>
    <child link="navigation_module_link"/>
  </joint>
  <link name="navigation_module_link">
    <!-- Plate -->
    <visual>
      <origin rpy="0 0 0" xyz="0 0 0"/>
      <geometry>
        <box size="0.316 0.225 0.0062"/>
      </geometry>
      <material name="Gray"/>
    </visual>
    <collision>
      <origin rpy="0 0 0" xyz="0 0 0"/>
      <geometry>
        <box size="0.316 0.225 0.0062"/>
      </geometry>
      <material name="Gray"/>
    </collision>
    <!-- Protection Vertical Profiles -->
    <visual>
      <origin rpy="0 0 0" xyz="-0.14 0.1025 0.1626"/>
      <geometry>
        <box size="0.02 0.02 0.319"/>
      </geometry>
      <material name="Gray"/>
    </visual>
    <visual>
      <origin rpy="0 0 0" xyz="-0.14 -0.1025 0.1626"/>
      <geometry>
        <box size="0.02 0.02 0.319"/>
      </geometry>
      <material name="Gray"/>
    </visual>
    <collision>
      <origin rpy="0 0 0" xyz="-0.14 0.1025 0.1626"/>
      <geometry>
        <box size="0.02 0.02 0.319"/>
      </geometry>
      <material name="Gray"/>
    </collision>
    <collision>
      <origin rpy="0 0 0" xyz="-0.14 -0.1025 0.1626"/>
      <geometry>
        <box size="0.02 0.02 0.319"/>
      </geometry>
      <material name="Gray"/>
    </collision>
    <!-- Horizontal Profile -->
    <visual>
      <origin rpy="0 0 0" xyz="-0.14 0 0.3121"/>
      <geometry>
        <box size="0.02 0.225 0.02"/>
      </geometry>
      <material name="Gray"/>
    </visual>
    <collision>
      <origin rpy="0 0 0" xyz="-0.14 0 0.3121"/>
      <geometry>
        <box size="0.02 0.225 0.02"/>
      </geometry>
      <material name="Gray"/>
    </collision>
    <!-- Camera360 alu mount -->
    <visual>
      <origin rpy="0 0 0" xyz="-0.14 0 0.3446"/>
      <geometry>
        <box size="0.02 0.02 0.045 "/>
      </geometry>
      <material name="Gray"/>
    </visual>
    <collision>
      <origin rpy="0 0 0" xyz="-0.14 0 0.3446"/>
      <geometry>
        <box size="0.02 0.02 0.045 "/>
      </geometry>
      <material name="Gray"/>
    </collision>
  </link>
  <gazebo reference="navigation_module_link">
    <material>Gazebo/Grey</material>
  </gazebo>
  <joint name="realsense_d435_back_mount_joint" type="fixed">
    <origin rpy="0 0 3.14159265359" xyz="-0.1601 0 0.2996"/>
    <parent link="navigation_module_link"/>
    <child link="realsense_d435_back_mount_link"/>
  </joint>
  <link name="realsense_d435_back_mount_link">
      </link>
  <joint name="realsense_d435_back_joint" type="fixed">
    <origin rpy="0 0 0" xyz="0.0107 0.0175 0.0125"/>
    <parent link="realsense_d435_back_mount_link"/>
    <child link="realsense_d435_back_link"/>
  </joint>
  <link name="realsense_d435_back_link">
    <inertial>
      <mass value="0.072"/>
      <origin rpy="0 0 0" xyz="0 0 0"/>
      <inertia ixx="5.8083e-4" ixy="0" ixz="0" iyy="3.0833e-5" iyz="0" izz="5.9083e-4"/>
    </inertial>
    <visual>
      <origin rpy="1.57079632679 0 1.57079632679" xyz="0.0042 -0.0175 0.0"/>
      <geometry>
        <mesh filename="package://hector_sensors_description/meshes/intel_realsense_d435/D435.dae" scale="0.001 0.001 0.001"/>
      </geometry>
    </visual>
    <collision>
      <origin rpy="0 0 0" xyz="-0.0083 -0.0175 0.0"/>
      <geometry>
        <!--Dimensions taken from https://click.intel.com/intelr-realsensetm-depth-camera-d435.html-->
        <box size="0.025 0.09 0.025"/>
      </geometry>
    </collision>
  </link>
  <gazebo reference="realsense_d435_back_link">
    <material>Gazebo/Grey</material>
  </gazebo>
  <gazebo reference="realsense_d435_back_link">
    <sensor name="realsense_d435_back" type="depth">
      <update_rate>20</update_rate>
      <camera>
        <horizontal_fov>1.21125850088</horizontal_fov>
        <image>
          <format>B8G8R8</format>
          <width>640</width>
          <height>480</height>
        </image>
        <clip>
          <near>0.3</near>
          <far>9.0</far>
        </clip>
      </camera>
      <plugin filename="libgazebo_ros_openni_kinect.so" name="realsense_d435_back_camera_controller">
        <cameraName>realsense_d435_back</cameraName>
        <imageTopicName>color/image_raw</imageTopicName>
        <cameraInfoTopicName>color/camera_info</cameraInfoTopicName>
        <depthImageTopicName>depth/image_raw</depthImageTopicName>
        <depthImageCameraInfoTopicName>depth/camera_info</depthImageCameraInfoTopicName>
        <pointCloudTopicName>depth/points</pointCloudTopicName>
        <frameName>realsense_d435_back_color_optical_frame</frameName>
      </plugin>
    </sensor>
  </gazebo>
  <joint name="spin_lidar_joint_fixed" type="fixed">
    <origin rpy="0.0 0.0 0.0" xyz="-0.1 0 0.2154"/>
    <parent link="navigation_module_link"/>
    <child link="spin_lidar_mount_link_fixed"/>
  </joint>
  <link name="spin_lidar_mount_link_fixed">
    </link>
  <joint name="spin_lidar_spin_joint" type="continuous">
    <origin rpy="0.0 0.0 0.0" xyz="-0.1 0 0.2154"/>
    <parent link="navigation_module_link"/>
    <child link="spin_lidar_mount_link"/>
    <axis xyz=" 0 0 1"/>
    <limit effort="1000" velocity="100"/>
    <joint_properties damping="500.0" friction="200.0"/>
  </joint>
  <link name="spin_lidar_mount_link">
    <visual>
      <origin rpy="0 0 3.14159265359" xyz="0 0 -0.21803"/>
      <geometry>
        <mesh filename="package://hector_components_description/meshes/autonomy_box/visionbox_lidar_mount_only.stl" scale="0.001 0.001 0.001"/>
      </geometry>
      <material name="Grey">
        <color rgba="0.5 0.5 0.5 1"/>
      </material>
    </visual>
    <inertial>
      <origin rpy="0 0 0" xyz="0.0 0.0 0.0"/>
      <mass value="0.1"/>
      <inertia ixx="9e-06" ixy="0.0" ixz="0.0" iyy="9e-06" iyz="0.0" izz="9e-06"/>
    </inertial>
  </link>
  <joint name="spin_lidar_laser_joint" type="fixed">
    <origin rpy="-2.62318 3.13398 3.14156" xyz="0.00266059 -0.00441927 0"/>
    <parent link="spin_lidar_mount_link"/>
    <child link="spin_lidar_laser_frame"/>
  </joint>
  <link name="spin_lidar_laser_frame">
    <inertial>
      <mass value="0.83"/>
      <origin xyz="0 0 0"/>
      <inertia ixx="0.00088568387" ixy="0.0" ixz="0.0" iyy="0.00088568387" iyz="0.0" izz="0.00088568387"/>
    </inertial>
    <visual>
      <origin rpy="1.57079632679 0 3.14159265359" xyz="0 0 -0.0378"/>
      <geometry>
        <mesh filename="package://hector_sensors_description/meshes/vlp16/VLP16_base_1.dae" scale="0.001 0.001 0.001"/>
      </geometry>
    </visual>
    <visual>
      <origin rpy="1.57079632679 0 3.14159265359" xyz="0 0 -0.0378"/>
      <geometry>
        <mesh filename="package://hector_sensors_description/meshes/vlp16/VLP16_base_2.dae" scale="0.001 0.001 0.001"/>
      </geometry>
    </visual>
    <visual>
      <origin rpy="1.57079632679 0 3.14159265359" xyz="0 0 -0.0378"/>
      <geometry>
        <mesh filename="package://hector_sensors_description/meshes/vlp16/VLP16_scan.dae" scale="0.001 0.001 0.001"/>
      </geometry>
    </visual>
    <collision>
      <origin rpy="0 0 0" xyz="0 0 -0.00225"/>
      <geometry>
        <cylinder length="0.0717" radius="0.0516"/>
      </geometry>
    </collision>
  </link>
  <gazebo reference="spin_lidar_laser_frame">
    <sensor name="spin_lidar_laser-VLP16" type="ray">
      <pose>0 0 0 0 0 0</pose>
      <visualize>false</visualize>
      <update_rate>10</update_rate>
      <ray>
        <scan>
          <horizontal>
            <samples>512</samples>
            <resolution>1</resolution>
            <min_angle>-3.14159265359</min_angle>
            <max_angle>3.14159265359</max_angle>
          </horizontal>
          <vertical>
            <samples>8</samples>
            <resolution>1</resolution>
            <min_angle>-0.261799387799</min_angle>
            <max_angle>0.261799387799</max_angle>
          </vertical>
        </scan>
        <range>
          <min>0.1</min>
          <max>100</max>
          <resolution>0.001</resolution>
        </range>
        <noise>
          <type>gaussian</type>
          <mean>0.0</mean>
          <stddev>0.0</stddev>
        </noise>
      </ray>
      <plugin filename="libgazebo_ros_velodyne_laser.so" name="gazebo_ros_laser_controller">
        <topicName>/spin_lidar/vlp16</topicName>
        <frameName>spin_lidar_laser_frame</frameName>
        <min_range>0.1</min_range>
        <max_range>100</max_range>
        <gaussianNoise>0.008</gaussianNoise>
      </plugin>
    </sensor>
  </gazebo>
  <transmission name="spin_lidar_spin_joint_joint_transmission">
    <type>transmission_interface/SimpleTransmission</type>
    <joint name="spin_lidar_spin_joint">
      <hardwareInterface>hardware_interface/EffortJointInterface</hardwareInterface>
    </joint>
    <actuator name="spin_lidar_spin_joint_joint_motor">
      <hardwareInterface>hardware_interface/EffortJointInterface</hardwareInterface>
      <mechanicalReduction>1</mechanicalReduction>
    </actuator>
  </transmission>
  <gazebo reference="spin_lidar_spin_joint">
    <implicitSpringDamper>1</implicitSpringDamper>
  </gazebo>
  <gazebo reference="spin_lidar_spin_joint">
    <implicitSpringDamper>1</implicitSpringDamper>
  </gazebo>
  <gazebo>
    <!-- ros_control plugin -->
    <plugin filename="libgazebo_ros_control_select_joints.so" name="gazebo_ros_control_select_joints">
      <robotNamespace>spin_lidar_control</robotNamespace>
      <joints>spin_lidar_spin_joint</joints>
    </plugin>
  </gazebo>
  <gazebo reference="spin_lidar_mount_link">
    <visual>
      <material>
        <ambient>0.1 0.1 0.1 1</ambient>
        <diffuse>0.48 0.48 0.48 1</diffuse>
        <emissive>0.237 0.237 0.237 1</emissive>
        <specular>0.8 0.8 0.8 1</specular>
      </material>
    </visual>
  </gazebo>
  <joint name="camera360_center_joint" type="fixed">
    <origin rpy="0 0 1.57" xyz="-0.14 0 0.3871 "/>
    <parent link="navigation_module_link"/>
    <child link="camera360_center_link"/>
  </joint>
  <link name="camera360_center_link">
    <!-- Sphere body -->
    <visual>
      <origin rpy="0 0 0" xyz="0 0 0"/>
      <geometry>
        <sphere radius="0.02"/>
      </geometry>
      <material name="Grey">
        <color rgba="0.5 0.5 0.5 1"/>
      </material>
    </visual>
    <collision>
      <origin rpy="0 0 0" xyz="0 0 0"/>
      <geometry>
        <sphere radius="0.04"/>
      </geometry>
      <material name="Grey">
        <color rgba="0.5 0.5 0.5 1"/>
      </material>
    </collision>
    <!-- Cable -->
    <!--      <visual>
        <origin xyz="${visual_radius + cable_collision_length/2} 0 0" rpy="0 0 0"/>
        <geometry>
          <box size="${cable_collision_length} 0.03 0.03"/>
        </geometry>
        <material name="Grey">
          <color rgba="0.5 0.5 0.5 1"/>
        </material> 
      </visual>-->
    <collision>
      <origin rpy="0 0 0" xyz="0.036 0 0"/>
      <geometry>
        <box size="0.05 0.03 0.03"/>
      </geometry>
      <material name="Grey">
        <color rgba="0.5 0.5 0.5 1"/>
      </material>
    </collision>
  </link>
  <joint name="camera360_right_joint" type="fixed">
    <origin rpy="1.57079632679 0 -1.57079632679" xyz="0 -0.01925392 0"/>
    <parent link="camera360_center_link"/>
    <child link="camera360_right_link"/>
  </joint>
  <link name="camera360_right_link"/>
  <joint name="camera360_right_optical_joint" type="fixed">
    <origin rpy="-1.57079632679 0.0 -1.57079632679" xyz="0 0 0"/>
    <parent link="camera360_right_link"/>
    <child link="camera360_right_optical_frame"/>
  </joint>
  <link name="camera360_right_optical_frame"/>
  <gazebo reference="camera360_right_link">
    <sensor name="camera360_right_camera_sensor" type="wideanglecamera">
      <update_rate>10</update_rate>
      <camera>
        <!--<horizontal_fov>${hfov * M_PI/180.0}</horizontal_fov>-->
        <horizontal_fov>3.14</horizontal_fov>
        <image>
          <format>R8G8B8</format>
          <width>1504</width>
          <height>1504</height>
        </image>
        <clip>
          <near>0.01</near>
          <far>100</far>
        </clip>
        <lens>
          <!--
            Crashes gazebo on some machines, so revert for now
            <type>custom</type>
            <custom_function>
              <c1>2</c1>
              <c2>2</c2>
              <f>1.0</f>
              <fun>sin</fun>
            </custom_function>
            <cutoff_angle>${fov/2}</cutoff_angle>
            <env_texture_size>1024</env_texture_size>
            -->
          <type>stereographic</type>
          <scale_to_hfov>true</scale_to_hfov>
          <cutoff_angle>1.5707</cutoff_angle>
          <env_texture_size>512</env_texture_size>
        </lens>
      </camera>
      <plugin filename="libgazebo_ros_camera.so" name="camera360_right_camera_controller">
        <cameraName>camera360/right</cameraName>
        <imageTopicName>image_raw</imageTopicName>
        <cameraInfoTopicName>not_used</cameraInfoTopicName>
        <frameName>camera360_right_optical_frame</frameName>
      </plugin>
    </sensor>
  </gazebo>
  <joint name="camera360_left_optical_joint" type="fixed">
    <origin rpy="3.1373499 -0.0021358 -3.1279404" xyz="0.00009742  0.00061696 -0.03850784"/>
    <parent link="camera360_right_optical_frame"/>
    <child link="camera360_left_optical_frame"/>
  </joint>
  <link name="camera360_left_optical_frame"/>
  <joint name="camera360_left_joint" type="fixed">
    <origin rpy="0 -1.57079632679 1.57079632679" xyz="0 0 0"/>
    <parent link="camera360_left_optical_frame"/>
    <child link="camera360_left_link"/>
  </joint>
  <link name="camera360_left_link"/>
  <gazebo reference="camera360_left_link">
    <sensor name="camera360_left_camera_sensor" type="wideanglecamera">
      <update_rate>10</update_rate>
      <camera>
        <!--<horizontal_fov>${hfov * M_PI/180.0}</horizontal_fov>-->
        <horizontal_fov>3.14</horizontal_fov>
        <image>
          <format>R8G8B8</format>
          <width>1504</width>
          <height>1504</height>
        </image>
        <clip>
          <near>0.01</near>
          <far>100</far>
        </clip>
        <lens>
          <!--
            Crashes gazebo on some machines, so revert for now
            <type>custom</type>
            <custom_function>
              <c1>2</c1>
              <c2>2</c2>
              <f>1.0</f>
              <fun>sin</fun>
            </custom_function>
            <cutoff_angle>${fov/2}</cutoff_angle>
            <env_texture_size>1024</env_texture_size>
            -->
          <type>stereographic</type>
          <scale_to_hfov>true</scale_to_hfov>
          <cutoff_angle>1.5707</cutoff_angle>
          <env_texture_size>512</env_texture_size>
        </lens>
      </camera>
      <plugin filename="libgazebo_ros_camera.so" name="camera360_left_camera_controller">
        <cameraName>camera360/left</cameraName>
        <imageTopicName>image_raw</imageTopicName>
        <cameraInfoTopicName>not_used</cameraInfoTopicName>
        <frameName>camera360_left_optical_frame</frameName>
      </plugin>
    </sensor>
  </gazebo>
  <joint name="arm_sensor_box_joint_fixed" type="fixed">
    <origin rpy="0.0 0.0 0.0" xyz="0.025 -0.058 0.0"/>
    <parent link="arm_link_4"/>
    <child link="arm_sensor_box_link"/>
  </joint>
  <link name="arm_sensor_box_link">
    <origin rpy="0 0 0" xyz="0 0 0"/>
    <visual>
      <origin rpy="0 0 3.14159265359" xyz="0 -0.003 0"/>
      <geometry>
        <mesh filename="package://drz_telemax_description/meshes/arm_sensor_box_cover.stl" scale="0.001 0.001 0.001"/>
      </geometry>
      <material name="Black"/>
    </visual>
    <collision>
      <origin rpy="0 0 0" xyz="0 -0.04 0.0"/>
      <geometry>
        <box size="0.21 0.09 0.13"/>
      </geometry>
    </collision>
  </link>
  <joint name="arm_thermal_cam_joint" type="fixed">
    <origin rpy="3.14159265359 0.0 0.0" xyz="0.09 -0.023 0.0"/>
    <parent link="arm_sensor_box_link"/>
    <child link="arm_thermal_cam_frame"/>
  </joint>
  <link name="arm_thermal_cam_frame">
    <inertial>
      <mass value="0.03"/>
      <origin xyz="0 0 0"/>
      <inertia ixx="1.2e-06" ixy="0.0" ixz="0.0" iyy="1.2e-06" iyz="0.0" izz="1.2e-06"/>
    </inertial>
    <visual>
      <origin rpy="0 1.57079632679 0" xyz="0 0.0 0.0"/>
      <geometry>
        <cylinder length="0.029" radius="0.016"/>
      </geometry>
      <material name="DarkGrey">
        <color rgba="0.3 0.3 0.3 1"/>
      </material>
    </visual>
    <visual>
      <origin rpy="0 0 0" xyz="-0.02875 -0.004 0.0"/>
      <geometry>
        <box size="0.0285 0.0345 0.029 "/>
      </geometry>
      <material name="DarkGrey">
        <color rgba="0.3 0.3 0.3 1"/>
      </material>
    </visual>
  </link>
  <joint name="arm_thermal_cam_optical_joint" type="fixed">
    <origin rpy="-1.57079632679 0.0 -1.57079632679" xyz="0 0 0"/>
    <parent link="arm_thermal_cam_frame"/>
    <child link="arm_thermal_cam_optical_frame"/>
  </joint>
  <link name="arm_thermal_cam_optical_frame"/>
  <gazebo reference="arm_thermal_cam_frame">
    <material>Gazebo/Grey</material>
  </gazebo>
  <gazebo reference="arm_thermal_cam_frame">
    <sensor name="thermal_camera_sensor" type="camera">
      <update_rate>9</update_rate>
      <camera>
        <horizontal_fov>0.872664625997</horizontal_fov>
        <image>
          <format>R8G8B8</format>
          <width>640</width>
          <height>512</height>
        </image>
        <clip>
          <near>0.01</near>
          <far>10</far>
        </clip>
      </camera>
      <plugin filename="libgazebo_ros_thermal_camera.so" name="thermal_camera_controller">
        <alwaysOn>true</alwaysOn>
        <updateRate>9</updateRate>
        <cameraName>arm_thermal_cam</cameraName>
        <imageTopicName>image_raw</imageTopicName>
        <cameraInfoTopicName>camera_info</cameraInfoTopicName>
        <frameName>arm_thermal_cam_optical_frame</frameName>
      </plugin>
    </sensor>
  </gazebo>
  <joint name="arm_rgbd_cam_mount_joint" type="fixed">
    <origin rpy="1.57079632679 0 0" xyz="0.0875 -0.053 0.00143"/>
    <parent link="arm_sensor_box_link"/>
    <child link="arm_rgbd_cam_mount_link"/>
  </joint>
  <link name="arm_rgbd_cam_mount_link">
      </link>
  <joint name="arm_rgbd_cam_joint" type="fixed">
    <origin rpy="0 0 0" xyz="0.0107 0.0175 0.0125"/>
    <parent link="arm_rgbd_cam_mount_link"/>
    <child link="arm_rgbd_cam_link"/>
  </joint>
  <link name="arm_rgbd_cam_link">
    <inertial>
      <mass value="0.072"/>
      <origin rpy="0 0 0" xyz="0 0 0"/>
      <inertia ixx="5.8083e-4" ixy="0" ixz="0" iyy="3.0833e-5" iyz="0" izz="5.9083e-4"/>
    </inertial>
    <visual>
      <origin rpy="1.57079632679 0 1.57079632679" xyz="0.0042 -0.0175 0.0"/>
      <geometry>
        <mesh filename="package://hector_sensors_description/meshes/intel_realsense_d435/D435.dae" scale="0.001 0.001 0.001"/>
      </geometry>
    </visual>
    <collision>
      <origin rpy="0 0 0" xyz="-0.0083 -0.0175 0.0"/>
      <geometry>
        <!--Dimensions taken from https://click.intel.com/intelr-realsensetm-depth-camera-d435.html-->
        <box size="0.025 0.09 0.025"/>
      </geometry>
    </collision>
  </link>
  <gazebo reference="arm_rgbd_cam_link">
    <material>Gazebo/Grey</material>
  </gazebo>
  <gazebo reference="arm_rgbd_cam_link">
    <sensor name="arm_rgbd_cam" type="depth">
      <update_rate>20</update_rate>
      <camera>
        <horizontal_fov>1.21125850088</horizontal_fov>
        <image>
          <format>B8G8R8</format>
          <width>640</width>
          <height>480</height>
        </image>
        <clip>
          <near>0.3</near>
          <far>9.0</far>
        </clip>
      </camera>
      <plugin filename="libgazebo_ros_openni_kinect.so" name="arm_rgbd_cam_camera_controller">
        <cameraName>arm_rgbd_cam</cameraName>
        <imageTopicName>color/image_raw</imageTopicName>
        <cameraInfoTopicName>color/camera_info</cameraInfoTopicName>
        <depthImageTopicName>depth/image_raw</depthImageTopicName>
        <depthImageCameraInfoTopicName>depth/camera_info</depthImageCameraInfoTopicName>
        <pointCloudTopicName>depth/points</pointCloudTopicName>
        <frameName>arm_rgbd_cam_color_optical_frame</frameName>
      </plugin>
    </sensor>
  </gazebo>
  <joint name="arm_wide_angle_cam_joint" type="fixed">
    <origin rpy="1.57079632679 0 0" xyz="0.095 -0.02133 -0.03768"/>
    <parent link="arm_sensor_box_link"/>
    <child link="arm_wide_angle_cam_link"/>
  </joint>
  <link name="arm_wide_angle_cam_link">
    <!--      <inertial>
        <mass value="0.001" />
        <origin xyz="0 0 0" rpy="0 0 0" />
        <inertia ixx="0.0001" ixy="0" ixz="0" iyy="0.0001" iyz="0" izz="0.0001" />
      </inertial>
      <visual>
        <origin xyz="0 0 0" rpy="0 0 0" />
        <geometry>
          <box size="0.01 0.01 0.01" />
        </geometry>
        <material name="Blue">
          <color rgba="0.0 0.0 0.8 1"/>
        </material>
      </visual>
      <collision>
        <origin xyz="0 0 0" rpy="0 0 0" />
        <geometry>
          <box size="0.01 0.01 0.01" />
        </geometry>
      </collision>-->
  </link>
  <joint name="arm_wide_angle_cam_optical_joint" type="fixed">
    <origin rpy="-1.57079632679 0.0 -1.57079632679" xyz="0 0 0"/>
    <parent link="arm_wide_angle_cam_link"/>
    <child link="arm_wide_angle_cam_optical_frame"/>
  </joint>
  <link name="arm_wide_angle_cam_optical_frame"/>
  <gazebo reference="arm_wide_angle_cam_link">
    <sensor name="arm_wide_angle_cam_camera_sensor" type="camera">
      <update_rate>5</update_rate>
      <camera>
        <horizontal_fov>2.26892802759</horizontal_fov>
        <image>
          <format>R8G8B8</format>
          <width>1920</width>
          <height>1080</height>
        </image>
        <clip>
          <near>0.01</near>
          <far>100</far>
        </clip>
      </camera>
      <plugin filename="libgazebo_ros_camera.so" name="arm_wide_angle_cam_camera_controller">
        <cameraName>arm_wide_angle_cam</cameraName>
        <imageTopicName>/arm_wide_angle_cam/image_raw</imageTopicName>
        <cameraInfoTopicName>/arm_wide_angle_cam/camera_info</cameraInfoTopicName>
        <frameName>arm_wide_angle_cam_optical_frame</frameName>
      </plugin>
    </sensor>
  </gazebo>
  <joint name="arm_tele_cam_joint" type="fixed">
    <origin rpy="1.57079632679 0 0" xyz="0.09 -0.02133 0.03768"/>
    <parent link="arm_sensor_box_link"/>
    <child link="arm_tele_cam_link"/>
  </joint>
  <link name="arm_tele_cam_link">
    <!--      <inertial>
        <mass value="0.001" />
        <origin xyz="0 0 0" rpy="0 0 0" />
        <inertia ixx="0.0001" ixy="0" ixz="0" iyy="0.0001" iyz="0" izz="0.0001" />
      </inertial>
      <visual>
        <origin xyz="0 0 0" rpy="0 0 0" />
        <geometry>
          <box size="0.01 0.01 0.01" />
        </geometry>
        <material name="Blue">
          <color rgba="0.0 0.0 0.8 1"/>
        </material>
      </visual>
      <collision>
        <origin xyz="0 0 0" rpy="0 0 0" />
        <geometry>
          <box size="0.01 0.01 0.01" />
        </geometry>
      </collision>-->
  </link>
  <joint name="arm_tele_cam_optical_joint" type="fixed">
    <origin rpy="-1.57079632679 0.0 -1.57079632679" xyz="0 0 0"/>
    <parent link="arm_tele_cam_link"/>
    <child link="arm_tele_cam_optical_frame"/>
  </joint>
  <link name="arm_tele_cam_optical_frame"/>
  <gazebo reference="arm_tele_cam_link">
    <sensor name="arm_tele_cam_camera_sensor" type="camera">
      <update_rate>1</update_rate>
      <camera>
        <horizontal_fov>0.698131700798</horizontal_fov>
        <image>
          <format>R8G8B8</format>
          <width>1920</width>
          <height>1080</height>
        </image>
        <clip>
          <near>0.01</near>
          <far>100</far>
        </clip>
      </camera>
      <plugin filename="libgazebo_ros_camera.so" name="arm_tele_cam_camera_controller">
        <cameraName>arm_tele_cam</cameraName>
        <imageTopicName>/arm_tele_cam/image_raw</imageTopicName>
        <cameraInfoTopicName>/arm_tele_cam/camera_info</cameraInfoTopicName>
        <frameName>arm_tele_cam_optical_frame</frameName>
      </plugin>
    </sensor>
  </gazebo>
</robot>
